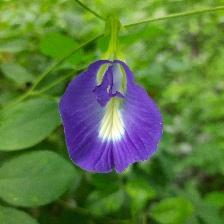shankupushpam: (58, 48, 167, 180)
